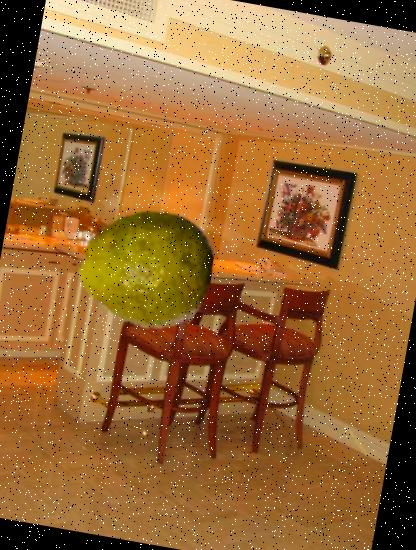Guava: (68, 190, 223, 346)
